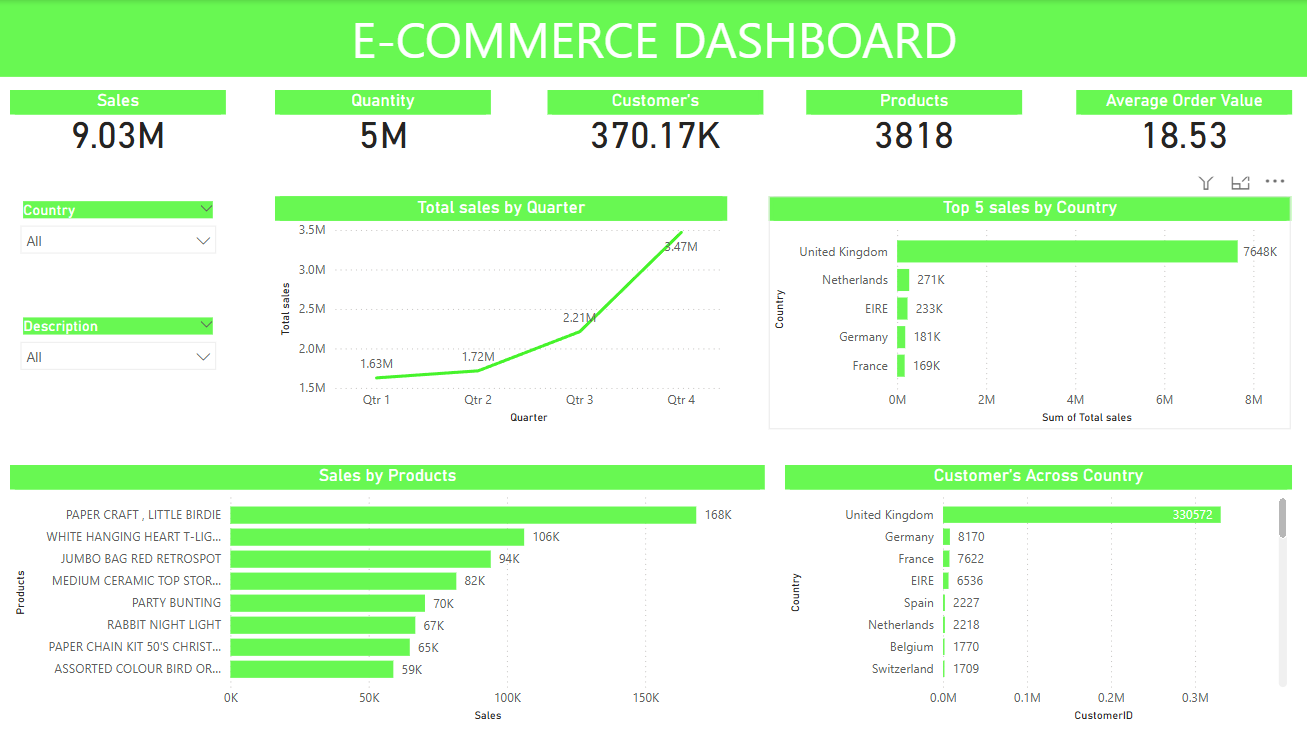

What the dashboard file says about the page in this screenshot:
{"tool":"powerbi","page":{"name":"Page 1","canvas":[1280,720],"ordinal":0},"visuals":[{"type":"textbox","box":[0,0,1280,75],"z":0},{"type":"lineChart","fields":{"Y":["Sum(Ecommerce (2).Total sales)"],"Category":["Ecommerce (2).InvoiceDate.Variation.Date Hierarchy.Quarter"]},"box":[268.8,192.5,442.5,227.5],"z":1000},{"type":"card","title":"Sales","fields":{"Values":["Sum(Ecommerce (2).Total sales)"]},"box":[10,87.5,211.2,85],"z":2000},{"type":"card","title":"Quantity","fields":{"Values":["Sum(Ecommerce (2).Quantity)"]},"box":[268.8,87.5,211.2,85],"z":3000},{"type":"clusteredBarChart","title":"Top 5 sales by Country","fields":{"Category":["Ecommerce (2).Country"],"Y":["Sum(Ecommerce (2).Total sales)"]},"box":[752.5,192.5,511.2,227.5],"z":4000},{"type":"clusteredBarChart","fields":{"Category":["Ecommerce (2).Description"],"Y":["Sum(Ecommerce (2).Total sales)"]},"box":[10,455,738.8,256.2],"z":5000},{"type":"card","title":"Customer''s","fields":{"Values":["CountNonNull(Ecommerce (2).CustomerID)"]},"box":[535,87.5,211.2,85],"z":6000},{"type":"card","title":"Products","fields":{"Values":["Count(Ecommerce (2).Description)"]},"box":[788.8,87.5,211.2,85],"z":7000},{"type":"card","title":"Average Order Value","fields":{"Values":["Ecommerce (2).Average Order Value"]},"box":[1052.5,87.5,211.2,85],"z":8000},{"type":"clusteredBarChart","title":"Customer''s Across Country","fields":{"Category":["Ecommerce (2).Country"],"Y":["CountNonNull(Ecommerce (2).CustomerID)"]},"box":[767.5,455,496.2,256.2],"z":8001},{"type":"slicer","fields":{"Values":["Ecommerce (2).Country"]},"box":[10,192.5,211.2,75],"z":8002},{"type":"slicer","fields":{"Values":["Ecommerce (2).Description"]},"box":[10,306.2,211.2,71.2],"z":8003}]}

Visuals, with their boxes in screenshot pixels (x1, y1, x2, y2), scaled from the page's 1280x720 canvas onto the 1307x732 screenshot:
textbox: left=0, top=0, right=1306, bottom=76
lineChart - Sum(Ecommerce (2).Total sales) x Ecommerce (2).InvoiceDate.Variation.Date Hierarchy.Quarter: left=274, top=196, right=726, bottom=427
"Sales" card: left=10, top=89, right=226, bottom=175
"Quantity" card: left=274, top=89, right=490, bottom=175
"Top 5 sales by Country" clusteredBarChart: left=768, top=196, right=1290, bottom=427
clusteredBarChart - Ecommerce (2).Description x Sum(Ecommerce (2).Total sales): left=10, top=463, right=765, bottom=723
"Customer''s" card: left=546, top=89, right=762, bottom=175
"Products" card: left=805, top=89, right=1021, bottom=175
"Average Order Value" card: left=1075, top=89, right=1290, bottom=175
"Customer''s Across Country" clusteredBarChart: left=784, top=463, right=1290, bottom=723
slicer - Ecommerce (2).Country: left=10, top=196, right=226, bottom=272
slicer - Ecommerce (2).Description: left=10, top=311, right=226, bottom=384
